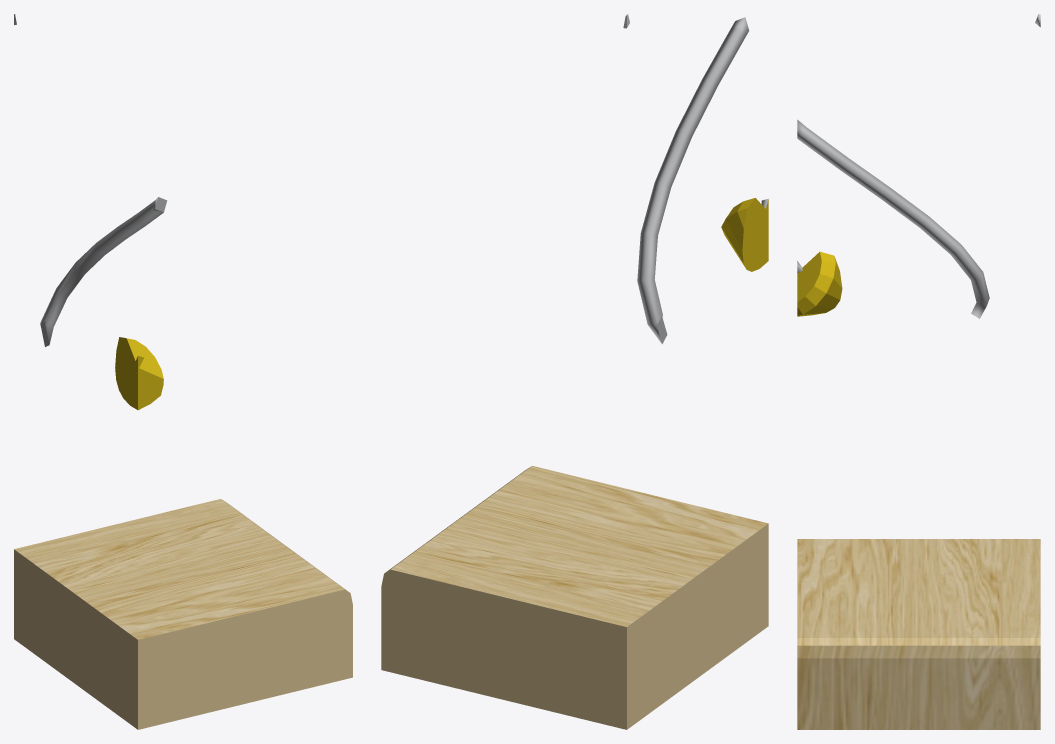
Rendered from 5_Motorikschleife.fbx.
3 views of the same model, side by side, from view 1: azimuth 30°, elevation 25°; view 2: azimuth 150°, elevation 25°; view 3: azimuth 270°, elevation 25° (orthographic). The views are drawn at different scales.
Parts seen in each view (by area): view 1: Cube.003; view 2: Cube.003; view 3: Cube.003.
Boxes of the visible parts, x1=… form: Cube.003: x1=14, y1=14, x2=352, y2=729; Cube.003: x1=381, y1=14, x2=768, y2=729; Cube.003: x1=797, y1=14, x2=1040, y2=729.
Bounding box in the file's own units: 500 × 1392 × 500.
